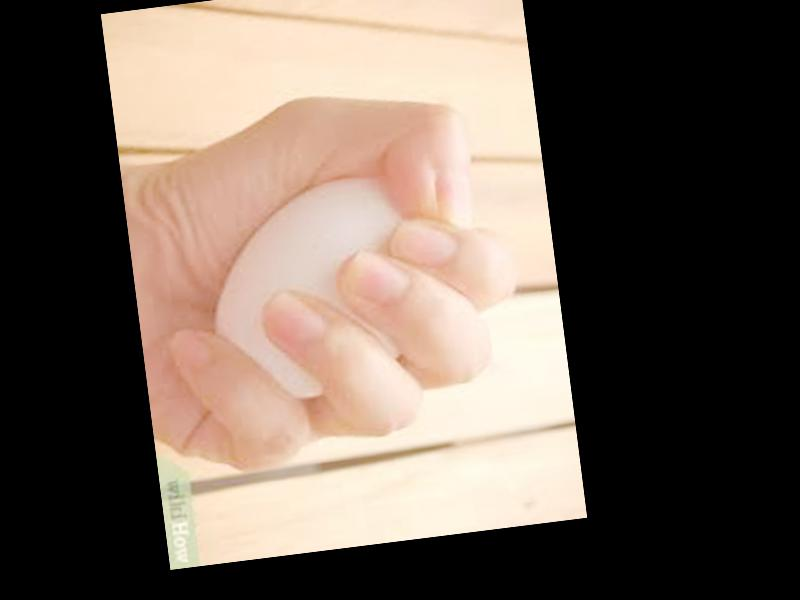Eggs: (199, 170, 422, 409)
